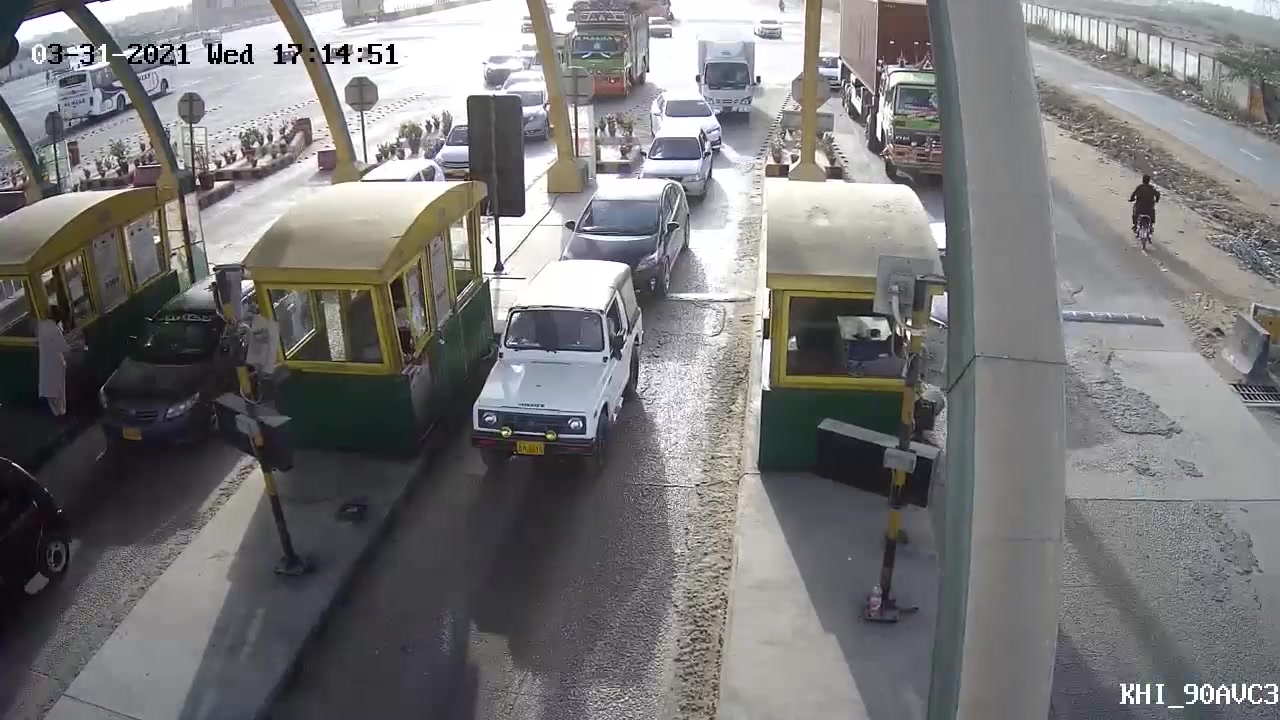F1: (469, 248, 651, 483), (562, 172, 693, 287)
